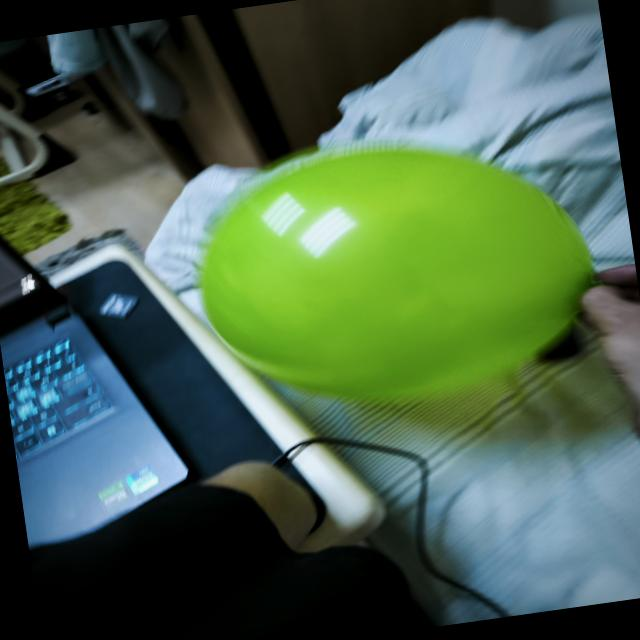balloon: (199, 145, 594, 397)
